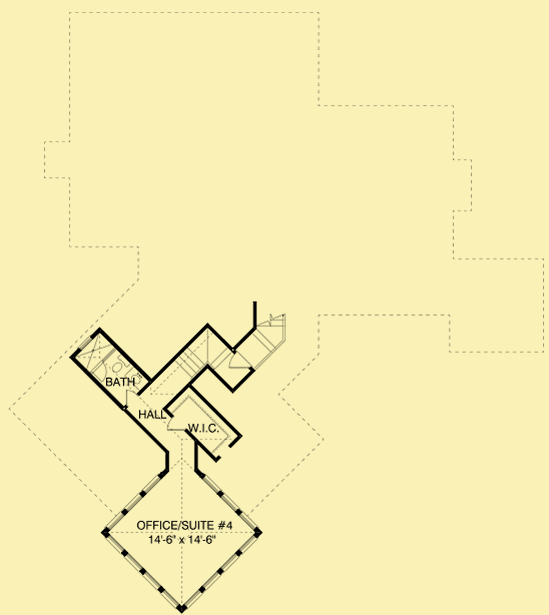door: (162, 415, 187, 434), (121, 387, 137, 408), (93, 362, 107, 384)
large_sink: (109, 352, 134, 377)
stairs: (169, 309, 291, 389)
window: (200, 475, 257, 532), (105, 477, 161, 531)
